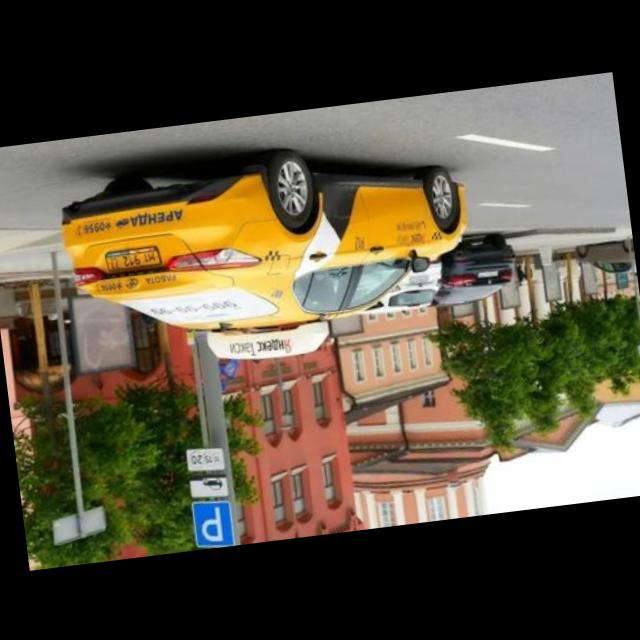taxi: (55, 127, 484, 383)
